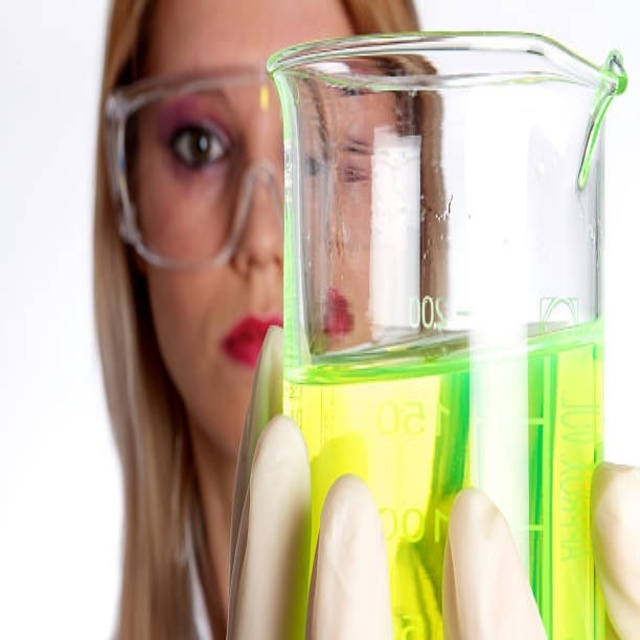Gafas: (104, 66, 288, 272)
Guantes: (220, 417, 635, 638)
Sin_mascara: (202, 308, 262, 440)
